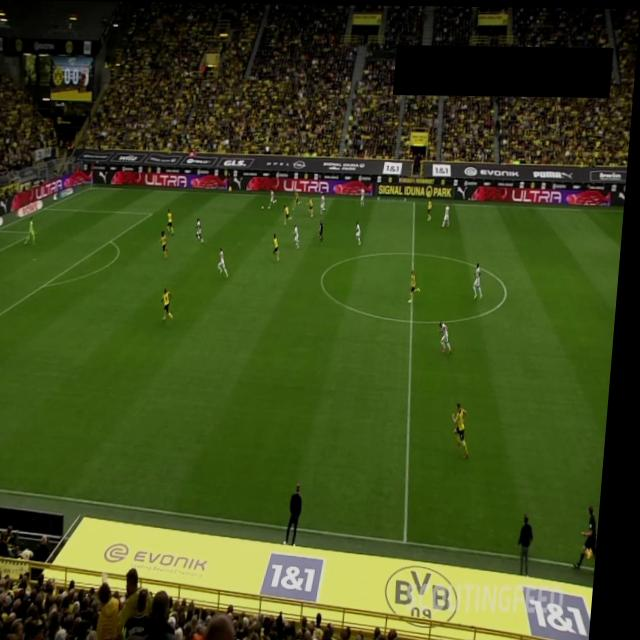goalkeeper: (27, 217, 41, 246)
player: (457, 400, 480, 457), (442, 319, 460, 352), (412, 268, 427, 303), (165, 288, 181, 320), (477, 261, 490, 299), (221, 246, 235, 278), (169, 207, 181, 235), (163, 229, 174, 258), (275, 232, 286, 261), (199, 217, 210, 242), (295, 188, 307, 210), (296, 223, 306, 249), (286, 203, 297, 226), (444, 203, 455, 226), (271, 188, 281, 210), (429, 195, 437, 221), (311, 195, 319, 216), (359, 219, 366, 243), (323, 192, 330, 214), (363, 187, 369, 206)
referee: (582, 502, 608, 568), (320, 218, 329, 244), (228, 170, 237, 194)
